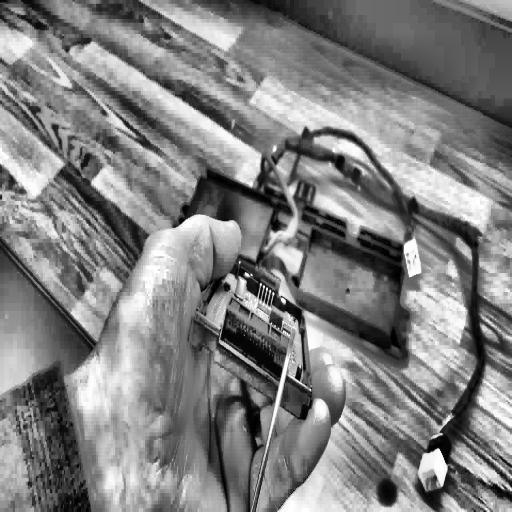high_volt_cable: (250, 122, 495, 504)
